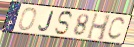8: (73, 13, 90, 37)
C: (106, 17, 127, 41)
H: (85, 12, 112, 42)
J: (37, 10, 55, 33)
O: (17, 7, 38, 32)
S: (53, 10, 73, 36)
